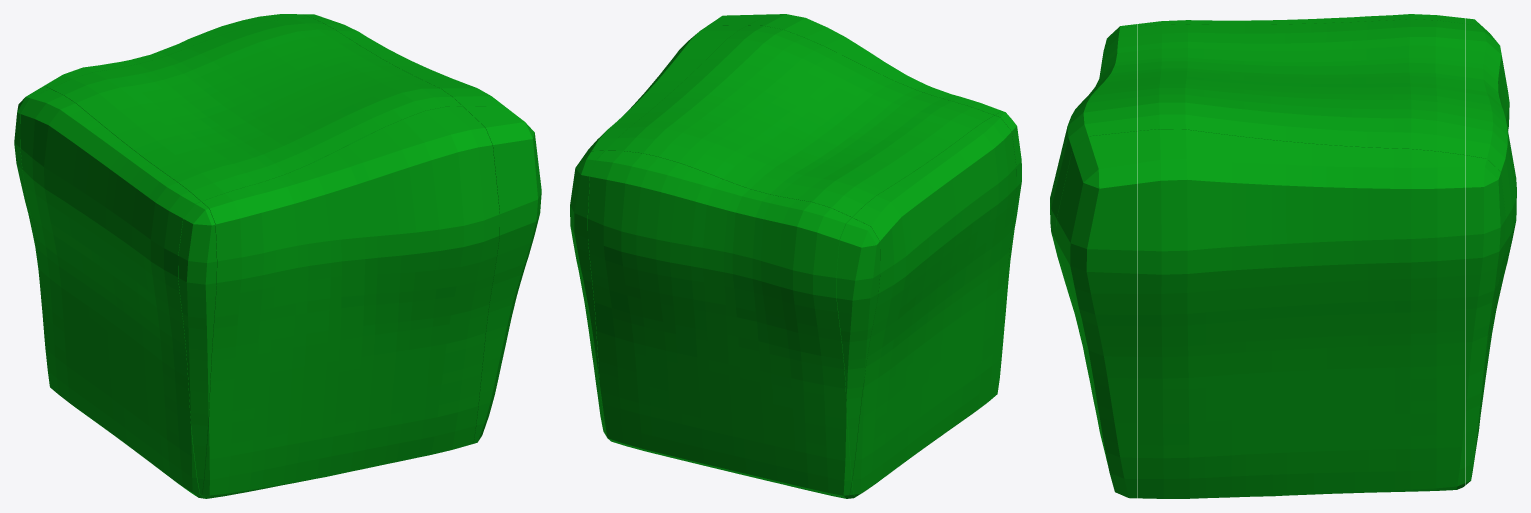
Rendered from 4by10beveledsubdivided.018.fbx.
The picture shows the model from 3 angles, left to right: view 1: azimuth 30°, elevation 25°; view 2: azimuth 150°, elevation 25°; view 3: azimuth 270°, elevation 25°; orthographic projection. The views are drawn at different scales.
Visible parts, largest first — view 1: 4by10beveledsubdivided.018; view 2: 4by10beveledsubdivided.018; view 3: 4by10beveledsubdivided.018.
Boxes of the visible parts, x1,y1,x2,y2 form: 4by10beveledsubdivided.018: [14, 14, 541, 498]; 4by10beveledsubdivided.018: [570, 14, 1021, 498]; 4by10beveledsubdivided.018: [1050, 14, 1516, 498].
Size of the model in its own units: 271 by 246 by 284.
